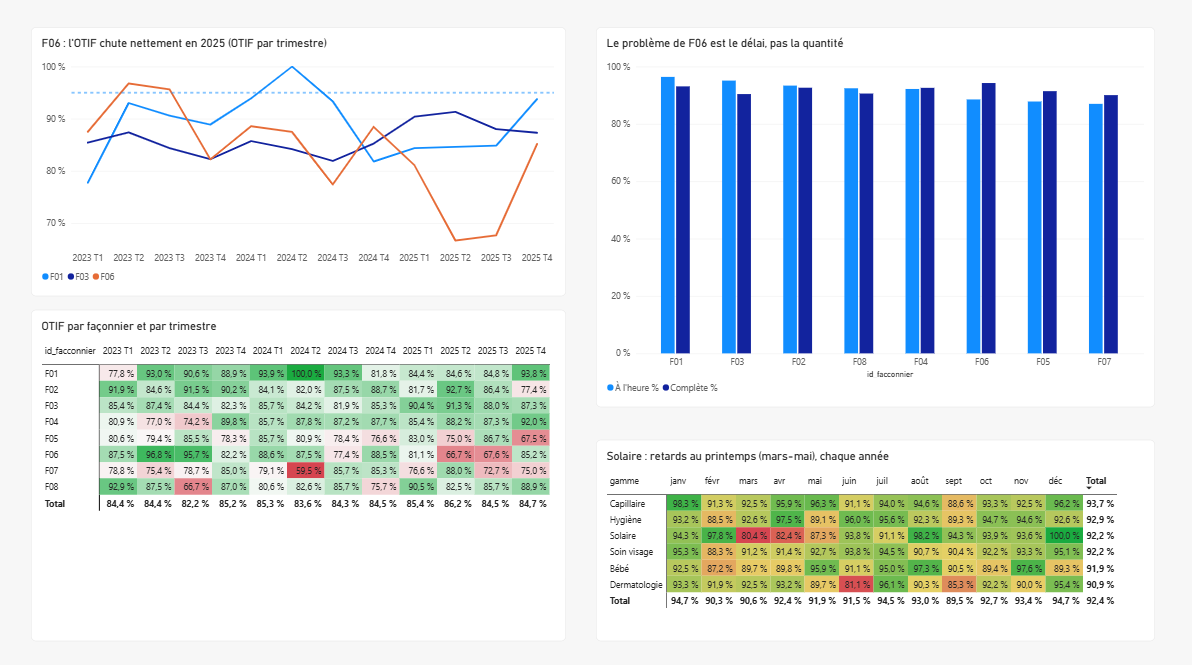

The dashboard page shown, as its layout file describes it:
{"tool":"powerbi","page":{"name":"Livraisons","canvas":[1920,1080],"ordinal":1},"visuals":[{"type":"pivotTable","title":"OTIF par façonnier et par trimestre","fields":{"Columns":["dim_date.Trimestre"],"Rows":["dim_facconnier.id_facconnier"],"Values":["_Mesures.OTIF %"]},"box":[56,502,842,530],"z":0},{"type":"lineChart","title":"F06 : l''OTIF chute nettement en 2025 (OTIF par trimestre)","fields":{"Category":["dim_date.Trimestre"],"Series":["dim_facconnier.id_facconnier"],"Y":["_Mesures.OTIF %"]},"box":[56,50,842,430],"z":1},{"type":"pivotTable","title":"Solaire : retards au printemps (mars-mai), chaque année","fields":{"Columns":["dim_date.Mois"],"Rows":["dim_produit.gamme"],"Values":["_Mesures.À l'heure %"]},"box":[960,710,894,322],"z":2},{"type":"clusteredColumnChart","title":"Le problème de F06 est le délai, pas la quantité","fields":{"Category":["dim_facconnier.id_facconnier"],"Y":["_Mesures.À l'heure %","_Mesures.Complète %"]},"box":[960,50,894,608],"z":3}]}

Visuals, with their boxes in screenshot pixels (x1, y1, x2, y2), scaled from the page's 1920x1080 canvas onto the 1192x665 screenshot:
"OTIF par façonnier et par trimestre" pivotTable: detection(35, 309, 558, 635)
"F06 : l''OTIF chute nettement en 2025 (OTIF par trimestre)" lineChart: detection(35, 31, 558, 296)
"Solaire : retards au printemps (mars-mai), chaque année" pivotTable: detection(596, 437, 1151, 635)
"Le problème de F06 est le délai, pas la quantité" clusteredColumnChart: detection(596, 31, 1151, 405)
